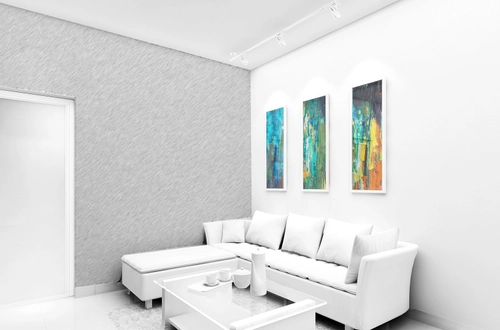sofa: (116, 211, 419, 328)
table: (153, 267, 326, 327)
wall art: (348, 76, 387, 196), (299, 93, 330, 194), (262, 104, 288, 192)
